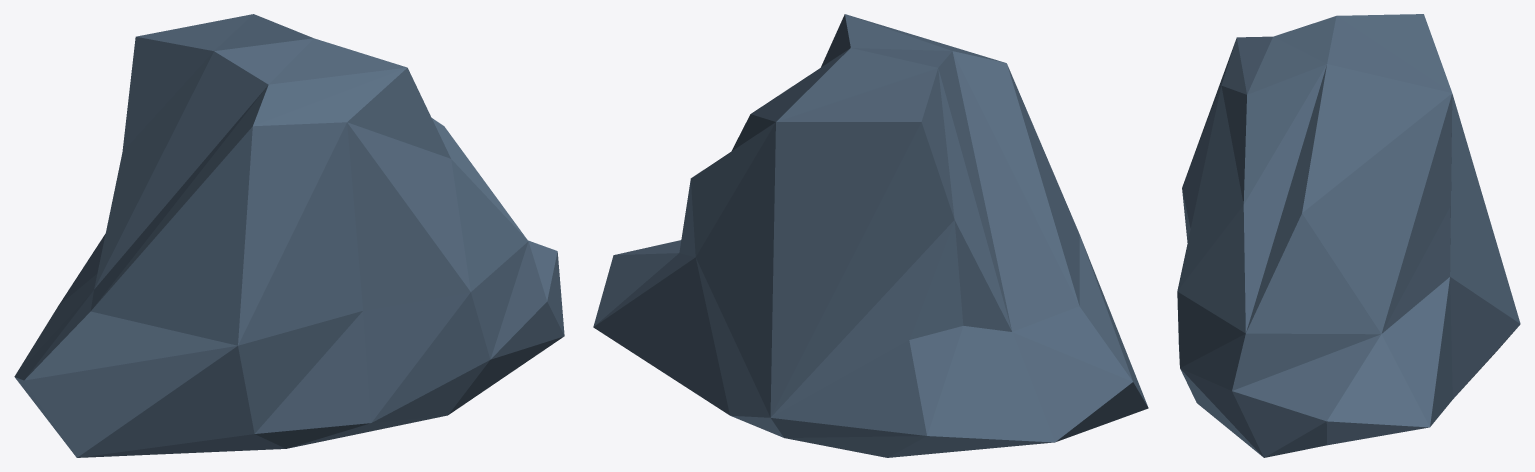
The model's file is AW_Rock04.fbx.
3 renders of one model, left to right at view 1: azimuth 30°, elevation 25°; view 2: azimuth 150°, elevation 25°; view 3: azimuth 270°, elevation 25°, orthographic. The views are drawn at different scales.
Parts seen in each view (by area): view 1: AW_Rock04; view 2: AW_Rock04; view 3: AW_Rock04.
Part boxes in pixels (box(x1,y1,x2,y2)): AW_Rock04: box(14, 14, 564, 457); AW_Rock04: box(593, 14, 1148, 457); AW_Rock04: box(1177, 14, 1520, 457).
Bounding box in the file's own units: 135 × 83.96 × 82.43.
Materials: 1 (1 with a texture image).
